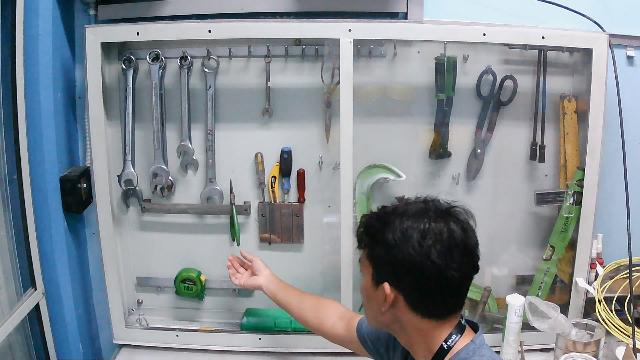tang_cucut_lancip_2: (224, 174, 245, 252)
